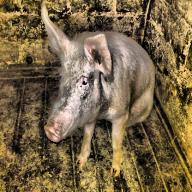boar: (41, 2, 156, 176)
